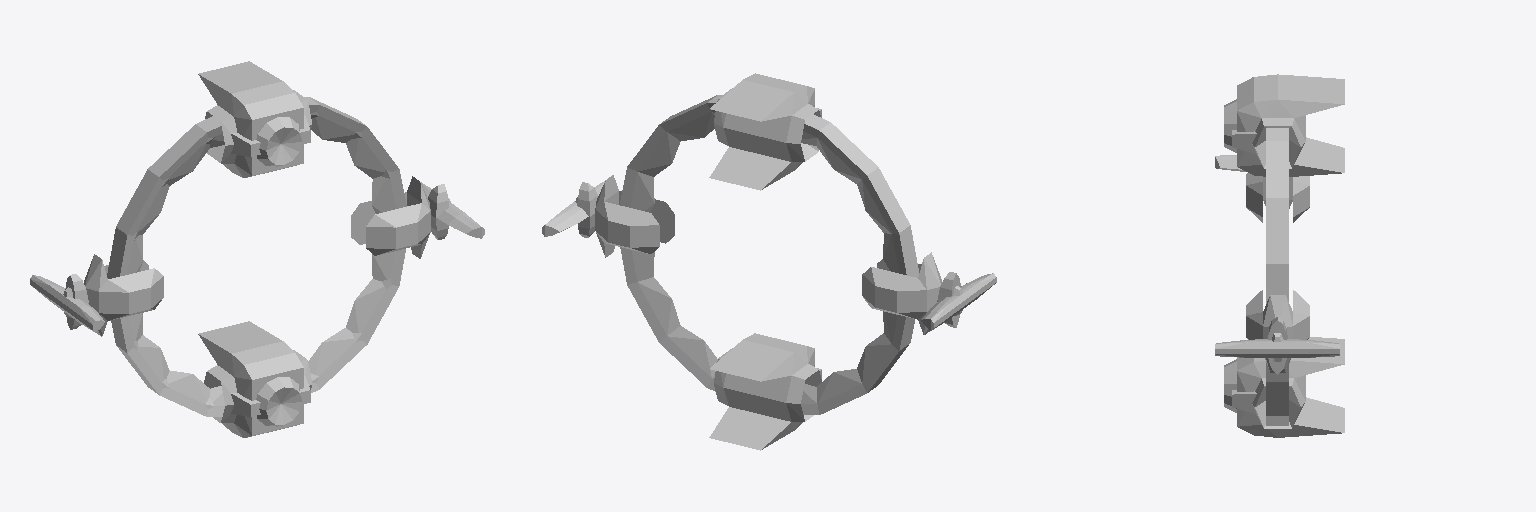
The model's file is stg300_MotGate_c7_03.obj.
3 views of the same model, side by side, from view 1: azimuth 30°, elevation 25°; view 2: azimuth 150°, elevation 25°; view 3: azimuth 270°, elevation 25° (orthographic).
Parts seen in each view (by area): view 1: polygon0, polygon6, polygon7, polygon1, polygon2, polygon5, polygon3, polygon4; view 2: polygon0, polygon6, polygon7, polygon2, polygon5, polygon1, polygon3, polygon4; view 3: polygon0, polygon6, polygon4.
Part boxes in pixels (x1,y1,x2,y2): polygon0: (84, 61, 430, 437); polygon6: (107, 97, 406, 416); polygon7: (127, 116, 395, 405); polygon1: (129, 127, 417, 424); polygon2: (30, 274, 104, 332); polygon5: (421, 182, 480, 235); polygon3: (34, 275, 104, 321); polygon4: (428, 184, 484, 239); polygon0: (595, 73, 941, 450); polygon6: (620, 95, 918, 414); polygon7: (630, 112, 898, 403); polygon2: (921, 272, 996, 330); polygon5: (545, 180, 605, 232); polygon1: (608, 221, 896, 312); polygon3: (922, 273, 992, 319); polygon4: (542, 182, 597, 237); polygon0: (1224, 74, 1344, 437); polygon6: (1266, 128, 1288, 425); polygon4: (1215, 317, 1339, 374).
Size of the model in its own units: 241 by 199 by 69.79.